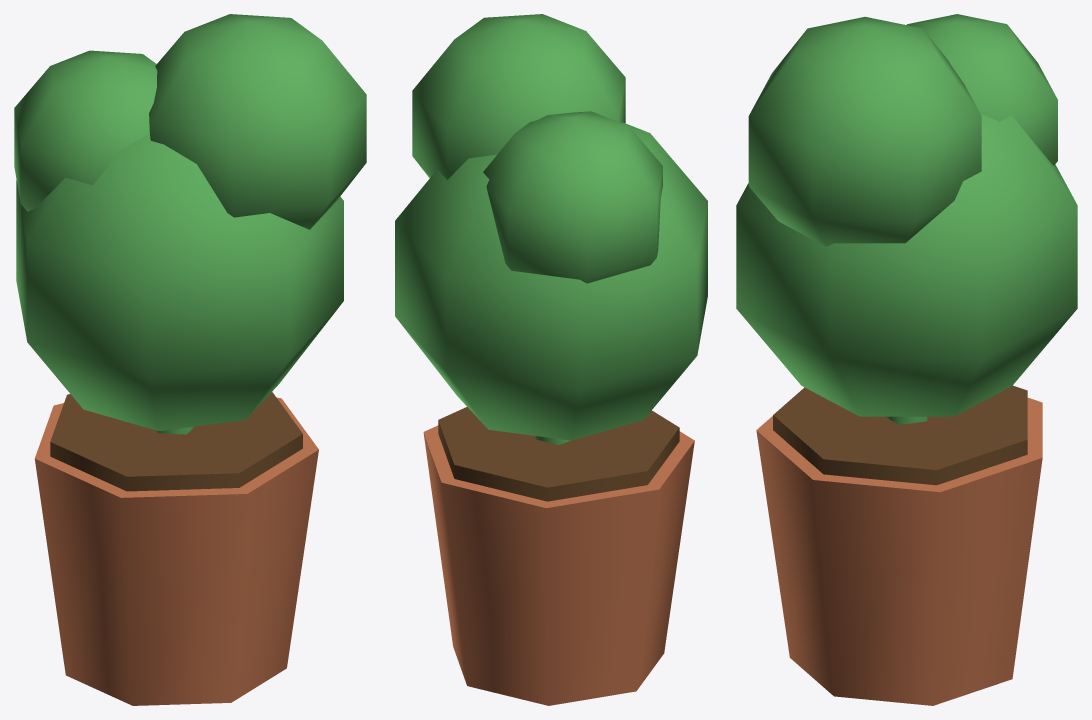
File: plant-small.glb
3 views of the same model, side by side, from view 1: azimuth 30°, elevation 25°; view 2: azimuth 150°, elevation 25°; view 3: azimuth 270°, elevation 25° (orthographic). The views are drawn at different scales.
Visible parts, largest first — view 1: Foliage, Pot, Soil; view 2: Foliage, Pot, Soil; view 3: Foliage, Pot, Soil.
Boxes of the visible parts, x1,y1,x2,y2 form: Foliage: (14,14,366,430); Pot: (34,397,318,705); Soil: (50,392,302,491); Foliage: (395,14,707,440); Pot: (423,425,694,705); Soil: (438,407,679,501); Foliage: (736,14,1077,416); Pot: (756,397,1042,705); Soil: (773,385,1027,485).
Bounding box in the file's own units: 0.4178 × 0.87 × 0.408.
